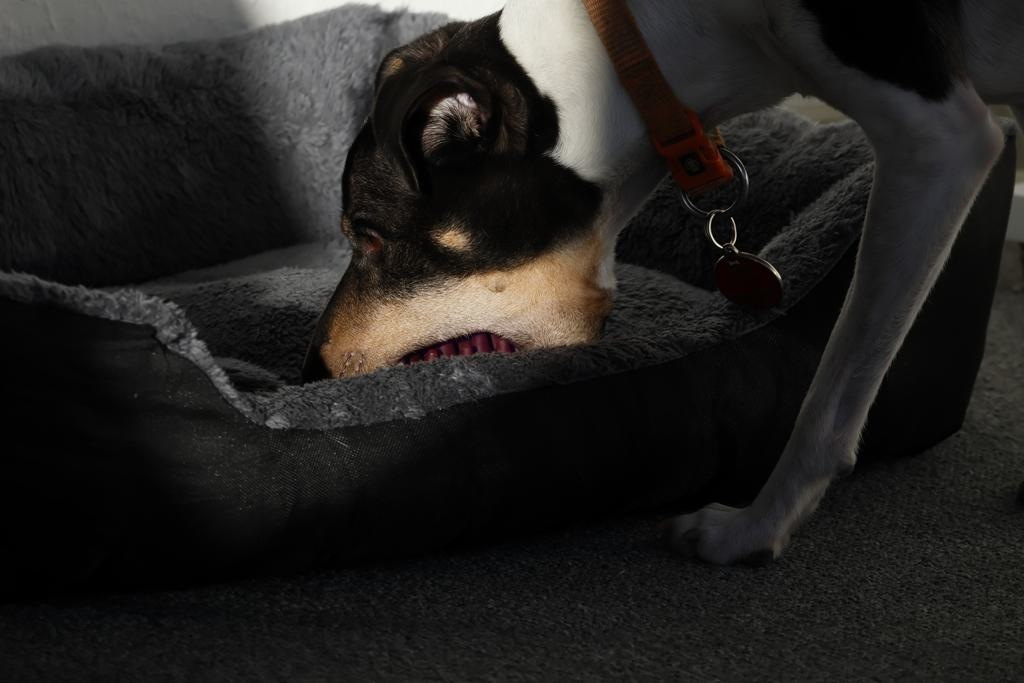Dog: (295, 0, 1024, 581)
